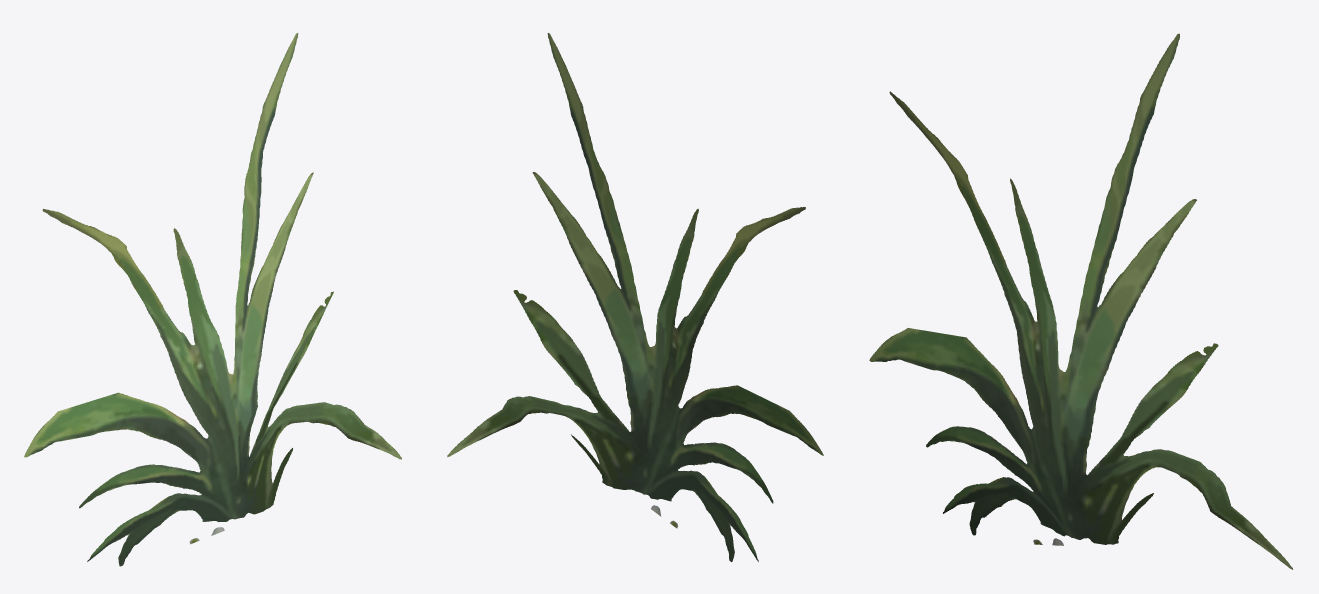
The model's file is Jiubajie_Grass04_fbx.FBX.
3 renders of one model, left to right at view 1: azimuth 30°, elevation 25°; view 2: azimuth 150°, elevation 25°; view 3: azimuth 330°, elevation 25°, orthographic. The views are drawn at different scales.
Visible parts, largest first — view 1: Jiubajie_Grass04_fbx; view 2: Jiubajie_Grass04_fbx; view 3: Jiubajie_Grass04_fbx.
Part boxes in pixels (bbox=[...]): Jiubajie_Grass04_fbx: bbox=[24, 33, 401, 566]; Jiubajie_Grass04_fbx: bbox=[447, 33, 823, 561]; Jiubajie_Grass04_fbx: bbox=[869, 33, 1292, 569].
Size of the model in its own units: 1.12 by 1.4 by 0.1193.
